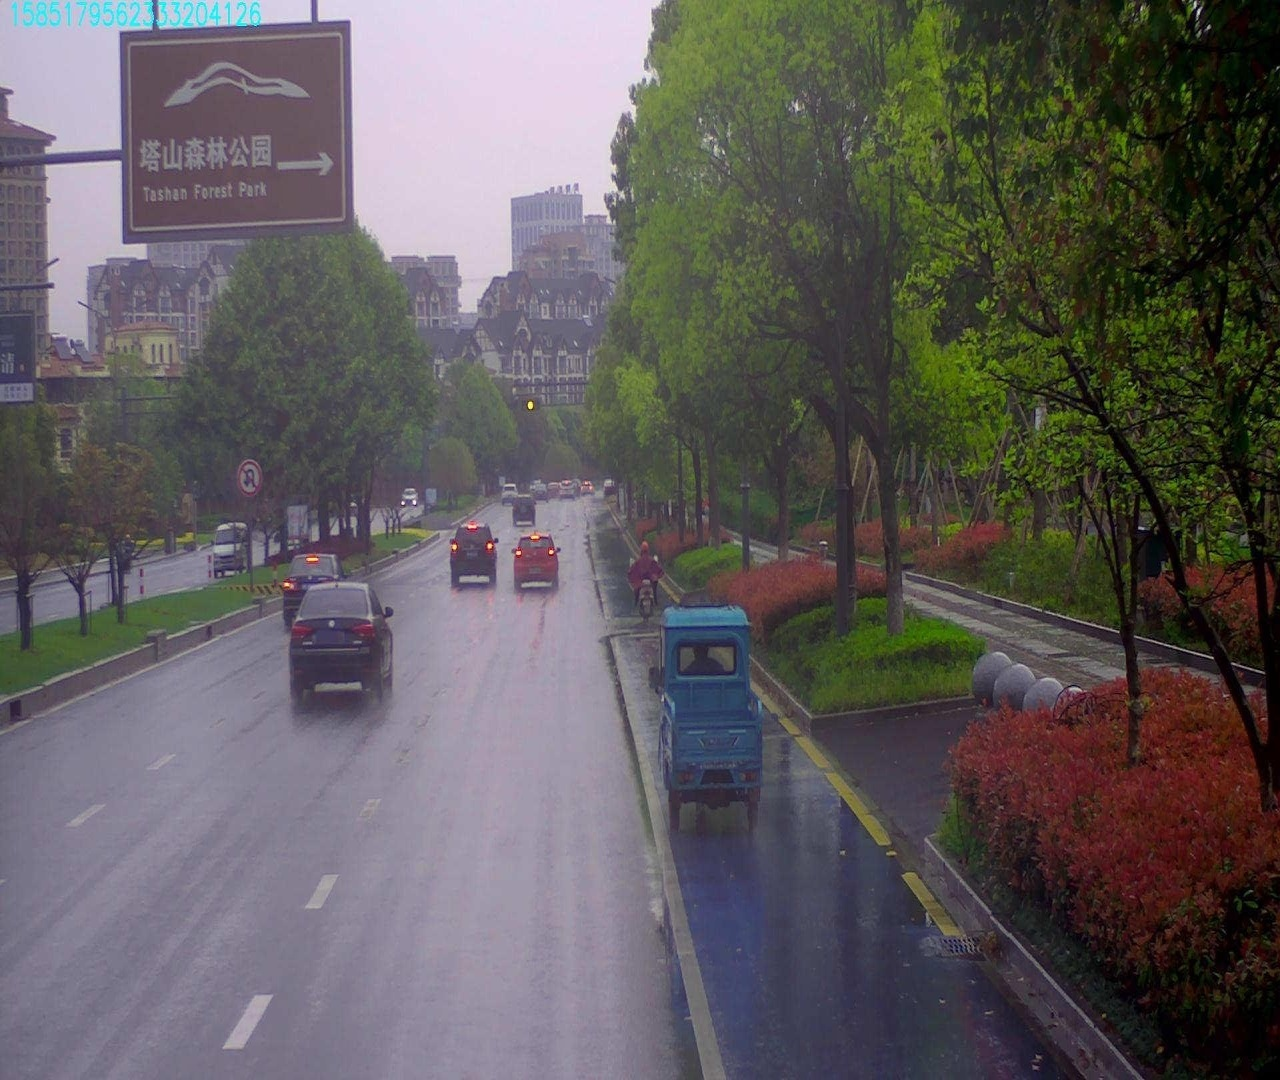yellow: (522, 395, 538, 411)
